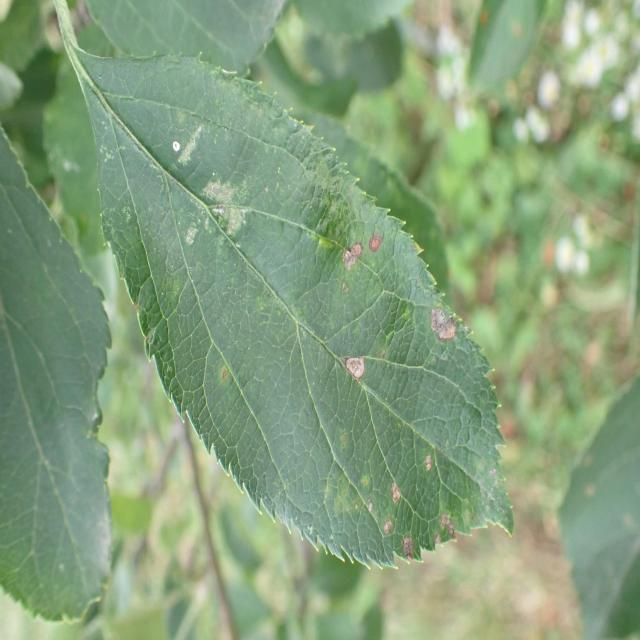frog-eye-leaf-spot: (78, 53, 516, 571)
